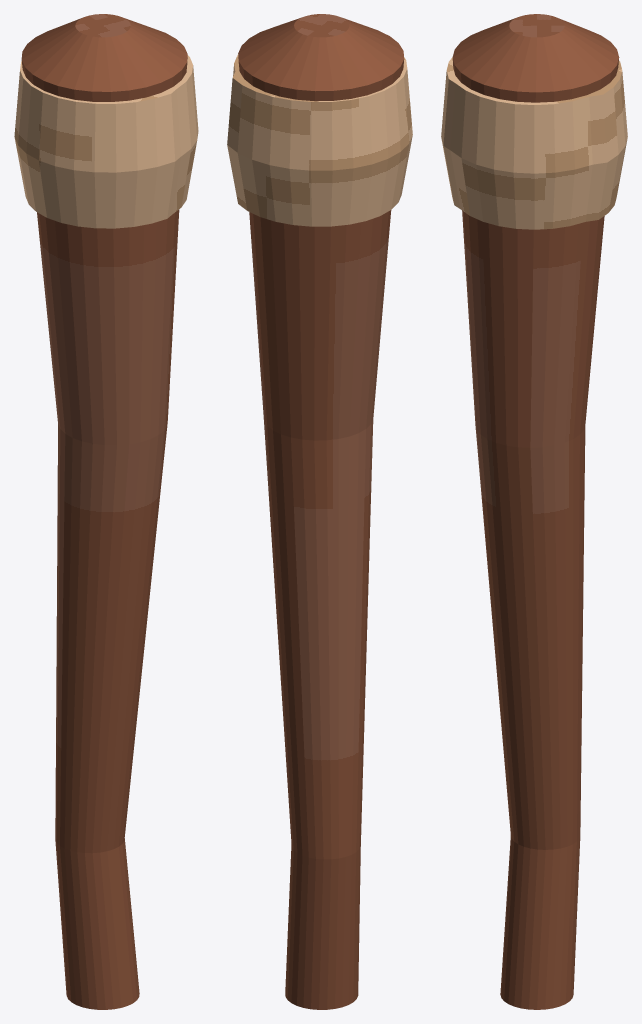
The model's file is torch.obj.
The picture shows the model from 3 angles, left to right: view 1: azimuth 30°, elevation 25°; view 2: azimuth 150°, elevation 25°; view 3: azimuth 270°, elevation 25°; orthographic projection.
Parts seen in each view (by area): view 1: Cylinder; view 2: Cylinder; view 3: Cylinder.
Part boxes in pixels (bbox=[...]): Cylinder: bbox=[14, 14, 198, 1009]; Cylinder: bbox=[227, 14, 412, 1009]; Cylinder: bbox=[441, 14, 627, 1009].
Size of the model in its own units: 0.0665 by 0.3841 by 0.0671.
